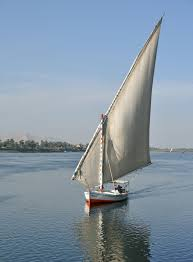boat: (70, 10, 170, 212)
